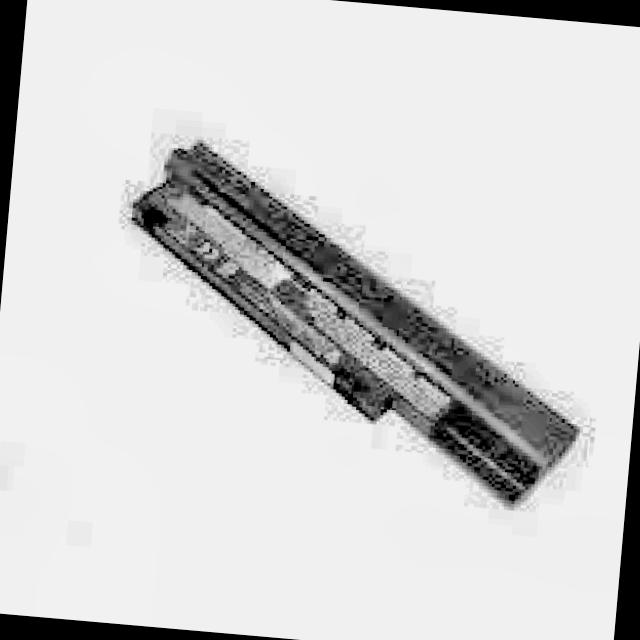Battery: (109, 137, 592, 514)
